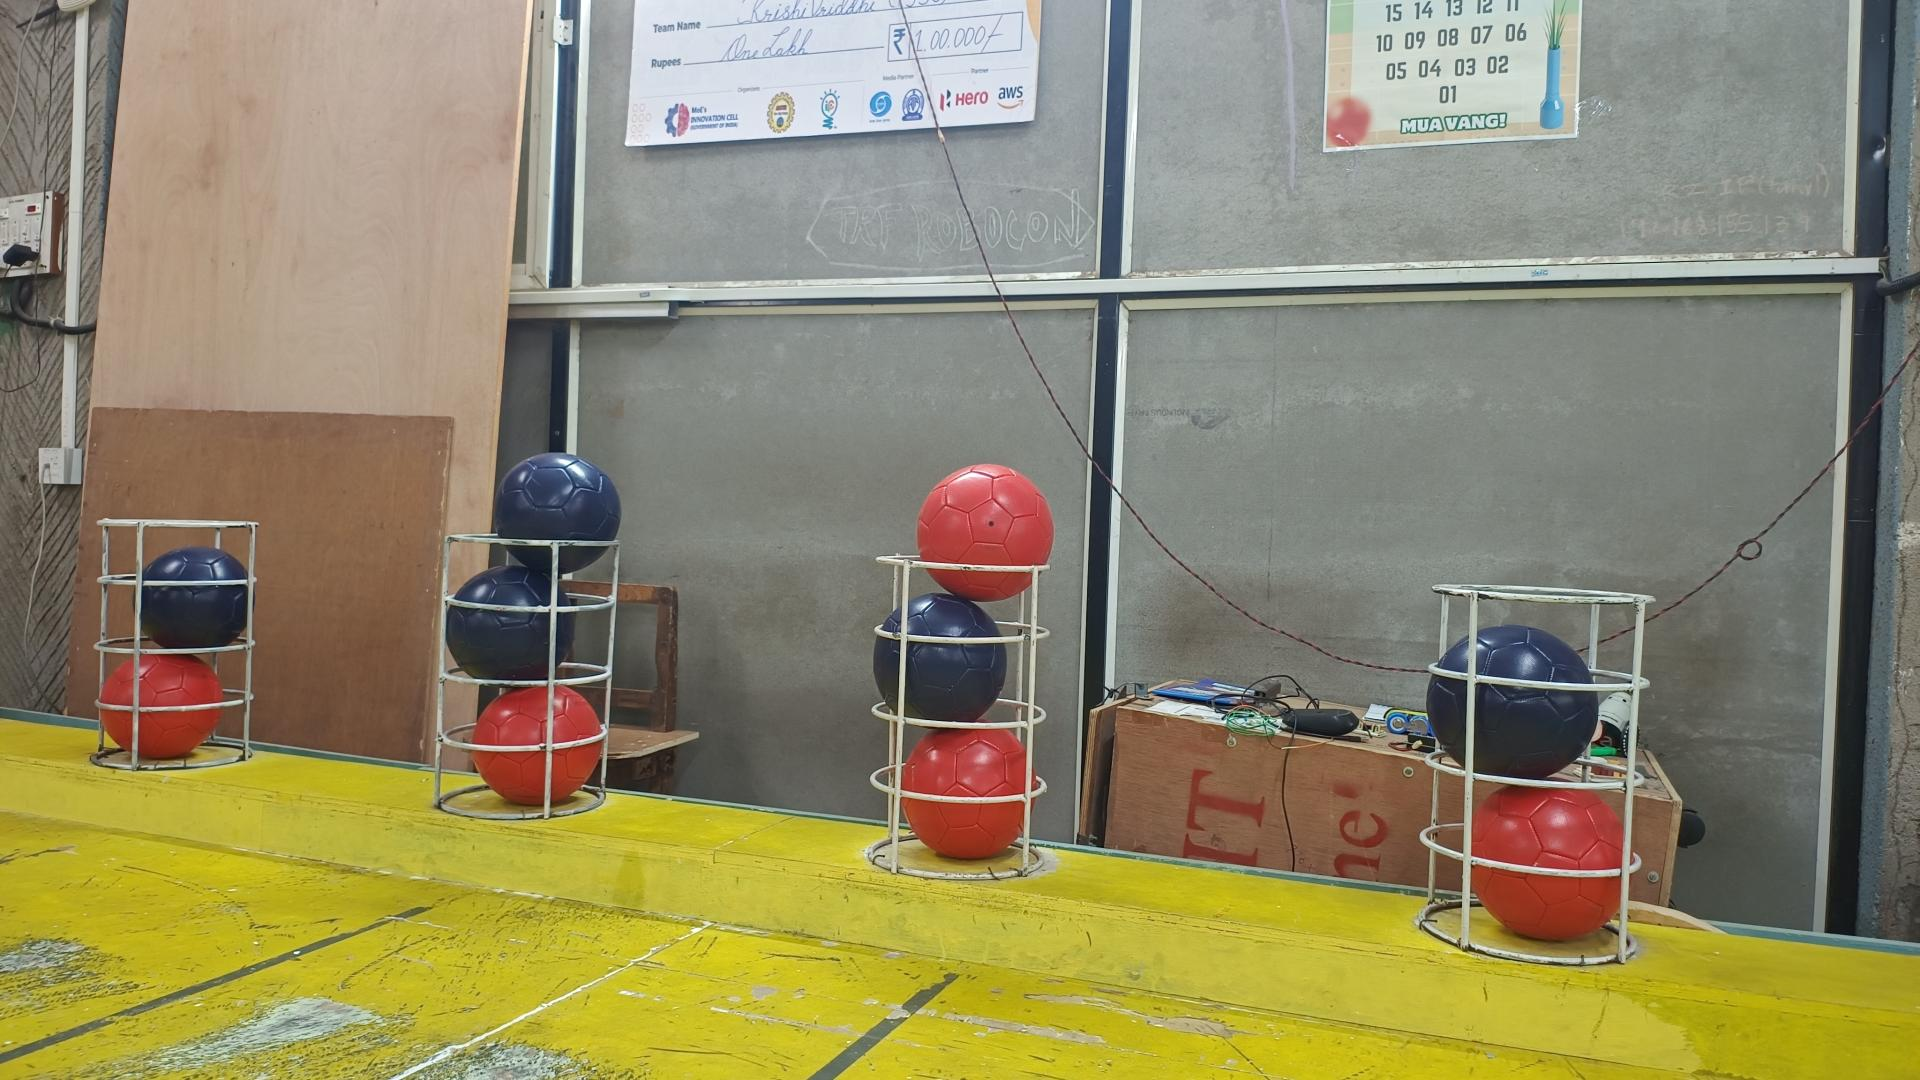dhoka: (1425, 622, 1597, 781), (874, 592, 1009, 724), (495, 454, 622, 574), (446, 566, 574, 683), (138, 547, 252, 649)
laale: (1466, 783, 1639, 942), (899, 728, 1043, 858), (915, 465, 1054, 600), (472, 686, 604, 806), (102, 653, 225, 761)
